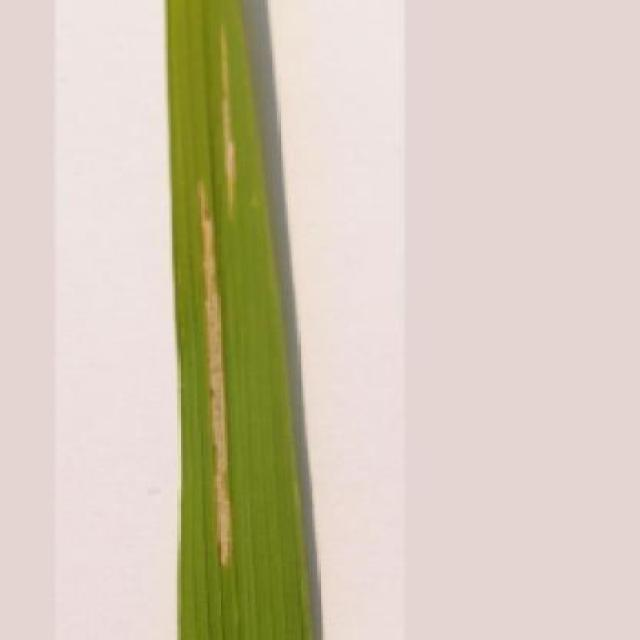Brown_Spot: (157, 0, 321, 640)
